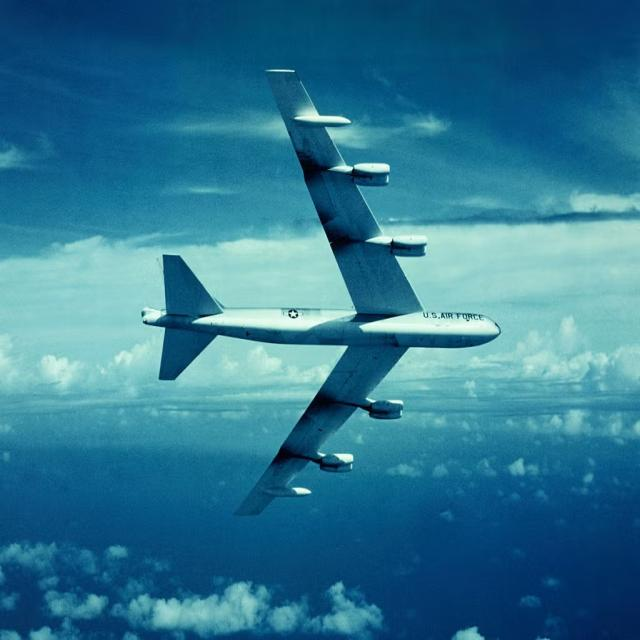B52: (123, 44, 536, 547)
